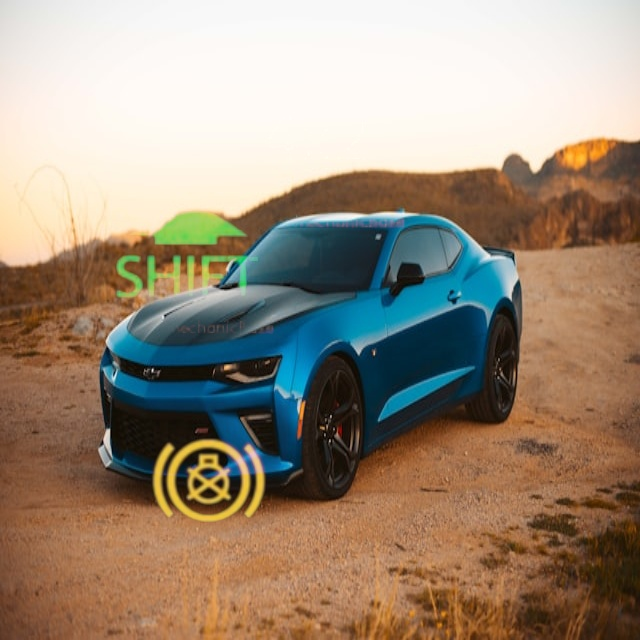symbol: (218, 43, 412, 237), (92, 154, 281, 343), (129, 403, 288, 562)
